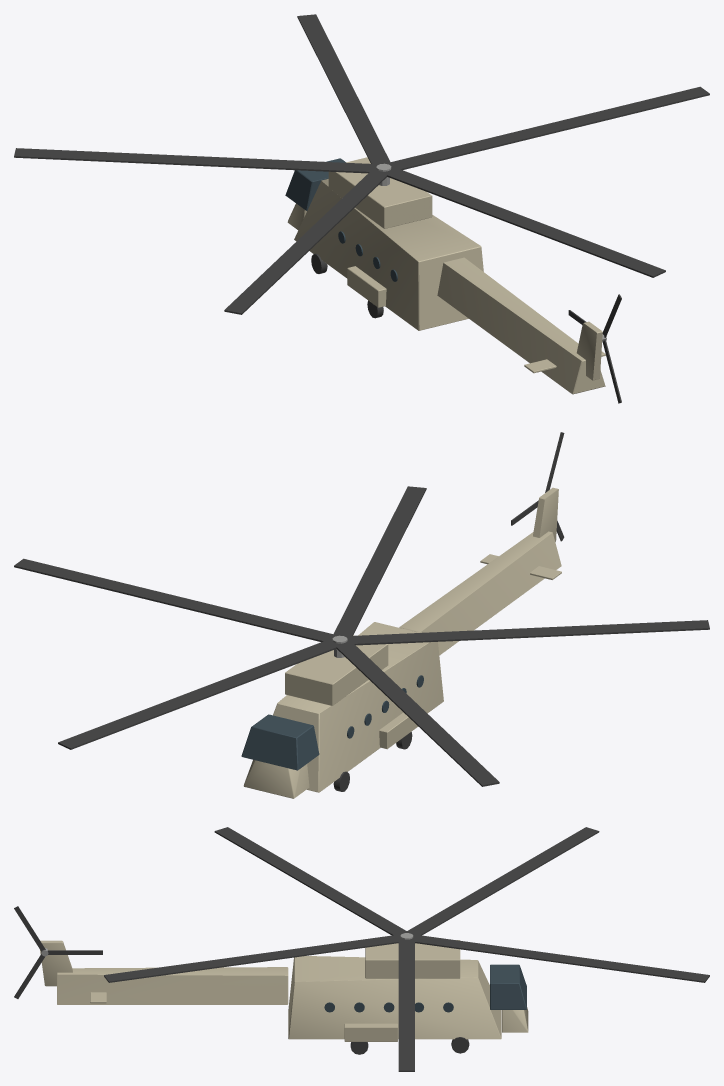
The model's file is rus_heli_mi8.glb.
The picture shows the model from 3 angles, top to bottom: view 1: azimuth 30°, elevation 25°; view 2: azimuth 150°, elevation 25°; view 3: azimuth 270°, elevation 25°; orthographic projection. The views are drawn at different scales.
Visible parts, largest first — view 1: body, rotor, trotor; view 2: body, rotor; view 3: body, rotor, trotor.
Part boxes in pixels (x1,y1,x2,y2): body: [285, 157, 605, 394]; rotor: [14, 14, 709, 314]; trotor: [568, 294, 621, 403]; body: [241, 487, 561, 798]; rotor: [14, 486, 709, 786]; body: [40, 940, 528, 1054]; rotor: [104, 827, 709, 1071]; trotor: [14, 906, 102, 998].
Bounding box in the file's own units: 19.43 × 5.03 × 23.46.
